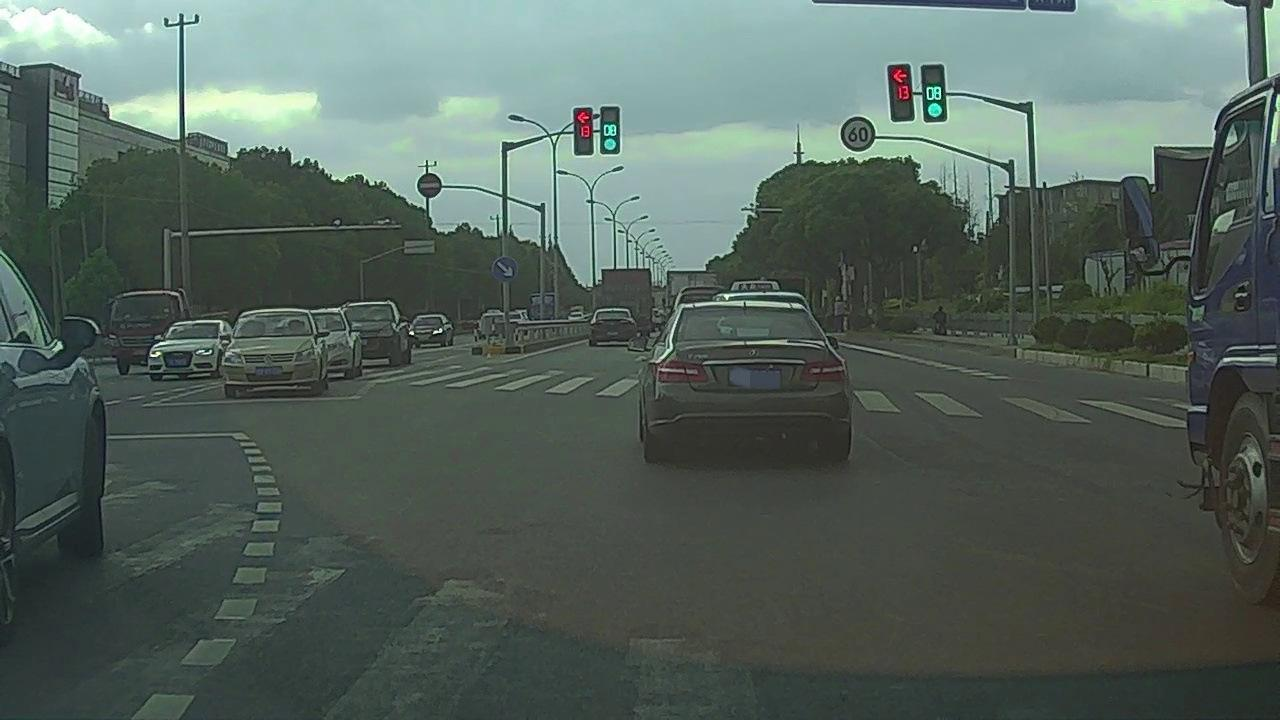traffic_light: (888, 63, 916, 122), (922, 63, 949, 123), (602, 105, 621, 156), (575, 107, 592, 153)
